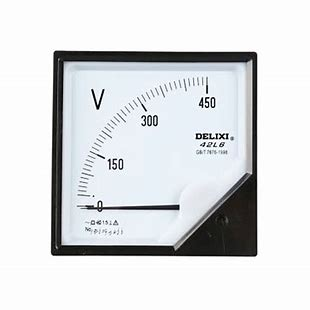pointer: (62, 59, 252, 244)
